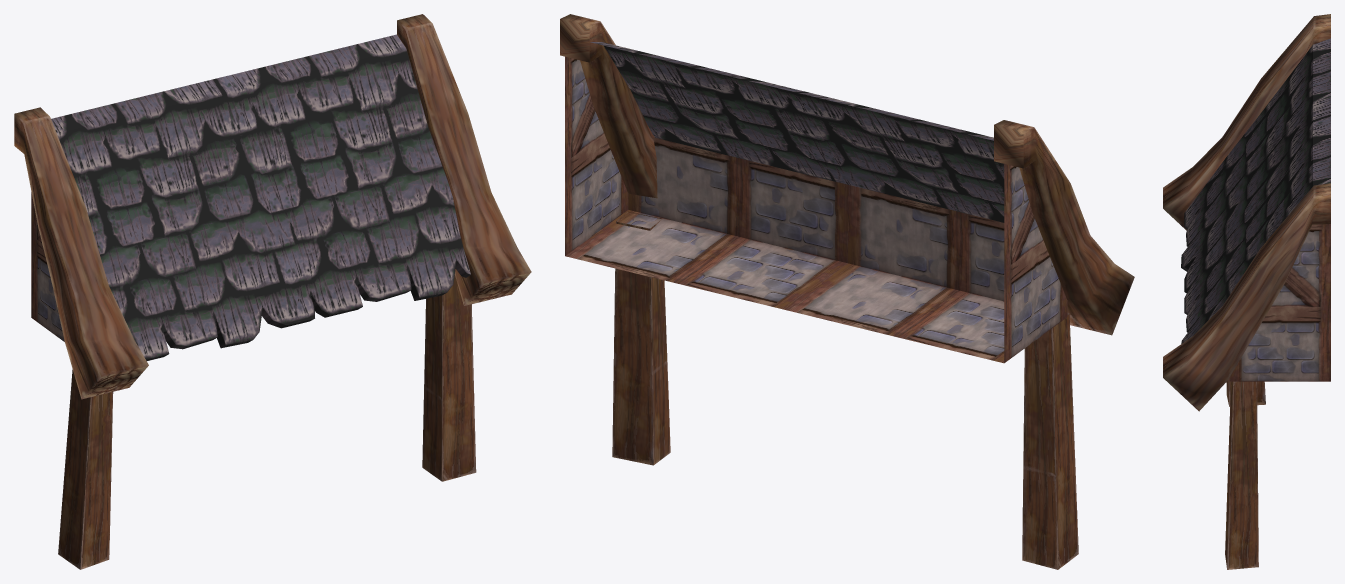
Rendered from wall_roof_pillar1x2.fbx.
The picture shows the model from 3 angles, left to right: view 1: azimuth 30°, elevation 25°; view 2: azimuth 150°, elevation 25°; view 3: azimuth 270°, elevation 25°; orthographic projection. The views are drawn at different scales.
Parts seen in each view (by area): view 1: wall_roof_pillar1x2; view 2: wall_roof_pillar1x2; view 3: wall_roof_pillar1x2.
Part boxes in pixels (<box>): wall_roof_pillar1x2: <box>14,14,531,569</box>; wall_roof_pillar1x2: <box>560,14,1134,569</box>; wall_roof_pillar1x2: <box>1163,14,1330,569</box>.
Size of the model in its own units: 333 by 308 by 124.
